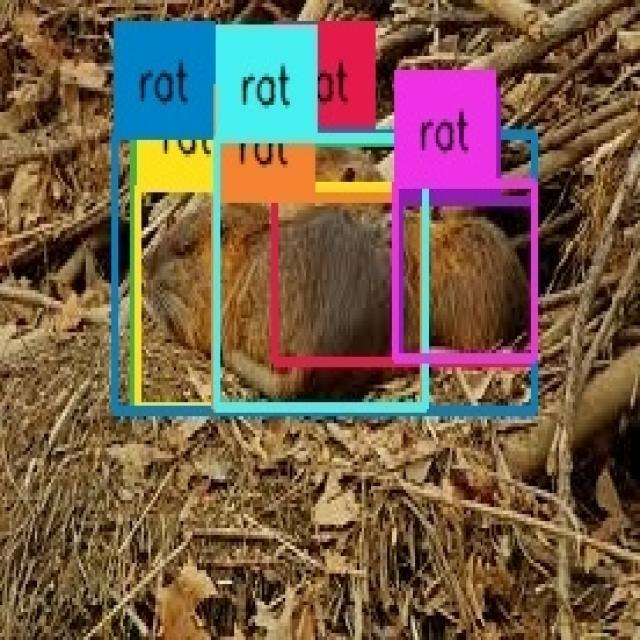rat: (115, 133, 534, 409), (134, 140, 426, 409), (138, 187, 423, 408), (275, 135, 534, 362), (216, 138, 424, 408), (215, 200, 423, 410), (396, 182, 534, 360), (400, 200, 534, 360)
